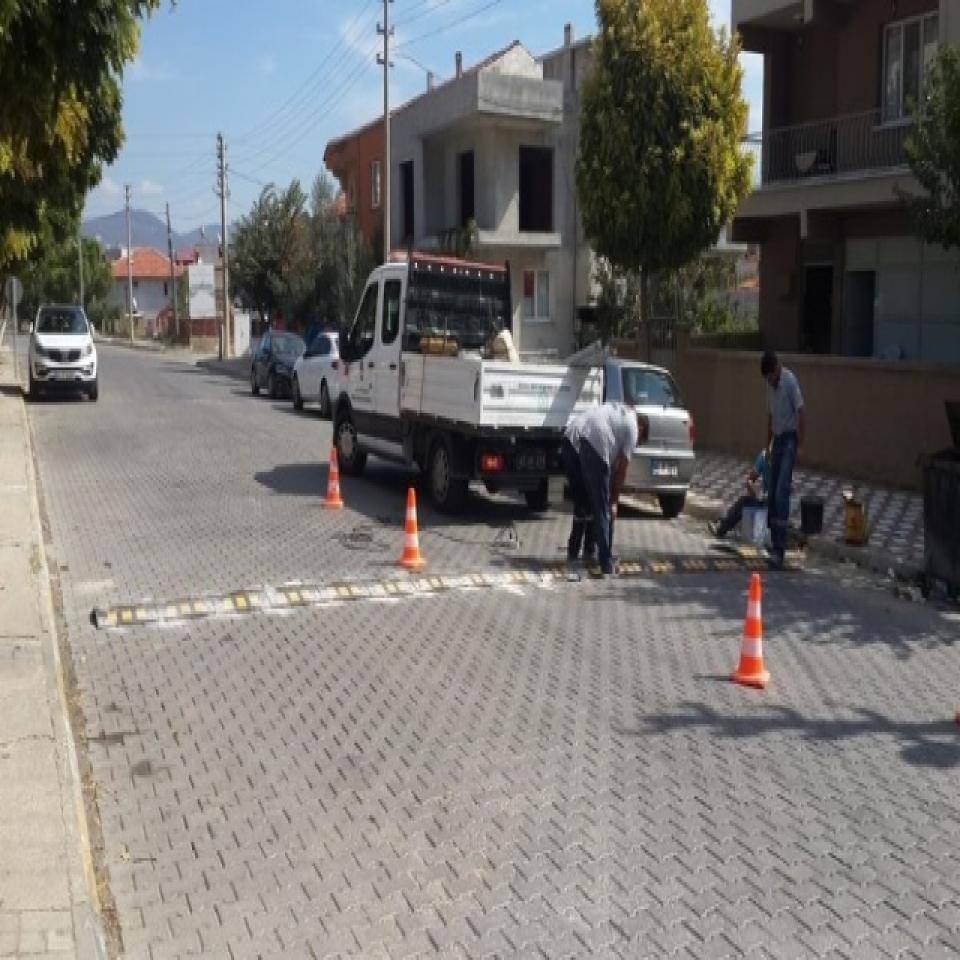speedbreaker: (79, 565, 501, 636)
